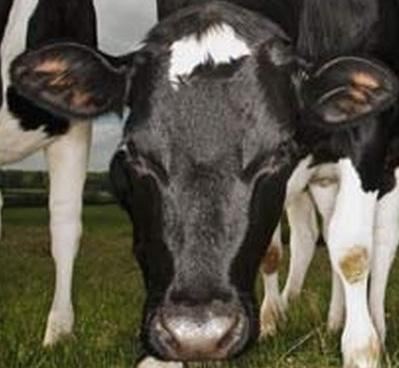muzzles: (137, 294, 264, 364)
